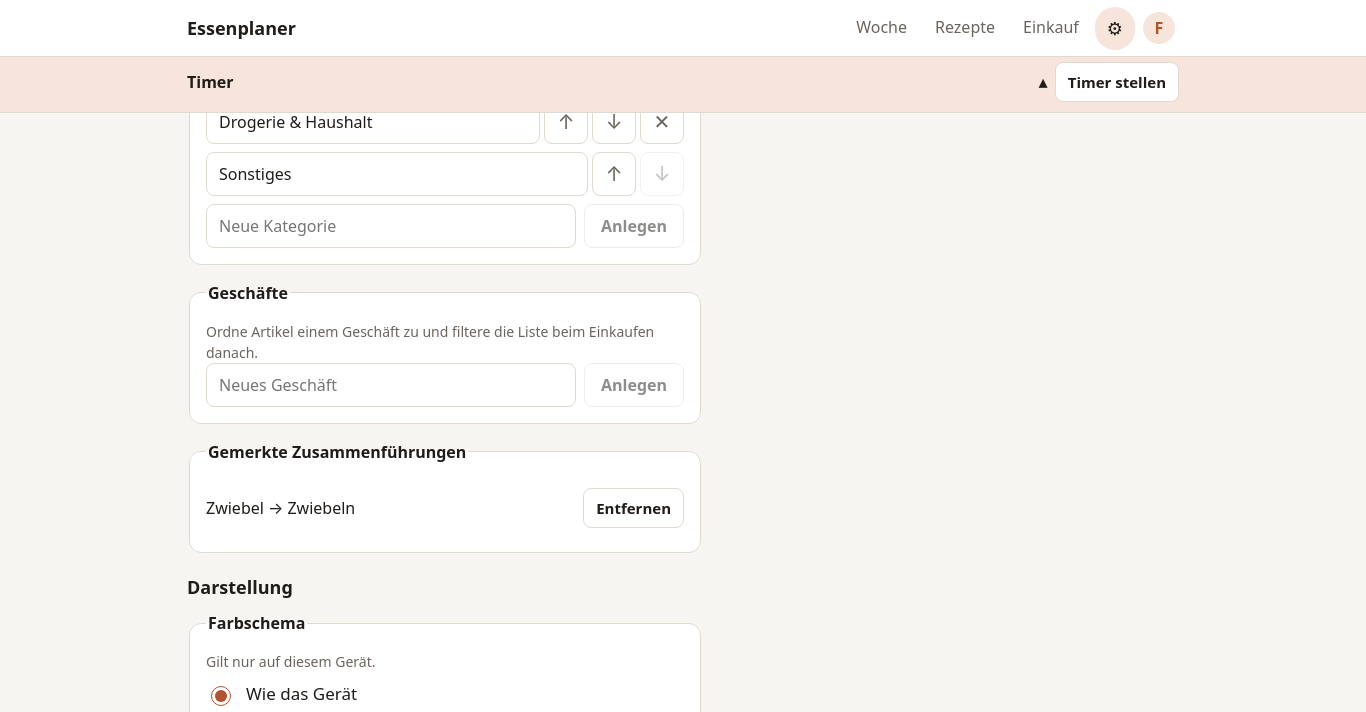
Test case: Einstellungen der Einkaufsliste › verwaltet Geschäfte und gemerkte Zusammenführungen
(page scrolled)
In the field labelled "Neues Geschäft": (391, 385) [206,363,576,407], type "Wochenmarkt"
Then press Enter
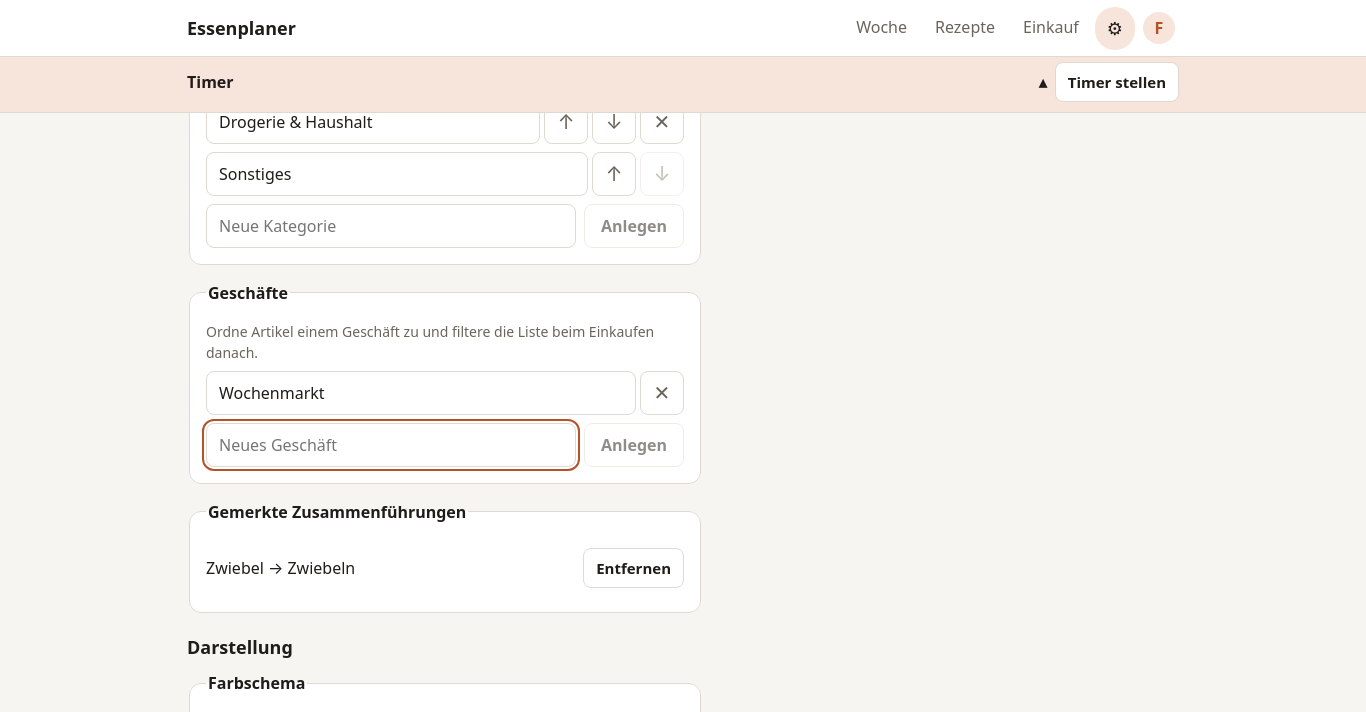
Result: the field named "Geschäft Wochenmarkt" is shown at [206,371,636,415]
Click the button named "Wochenmarkt löschen": (662, 393) [640,371,684,415]
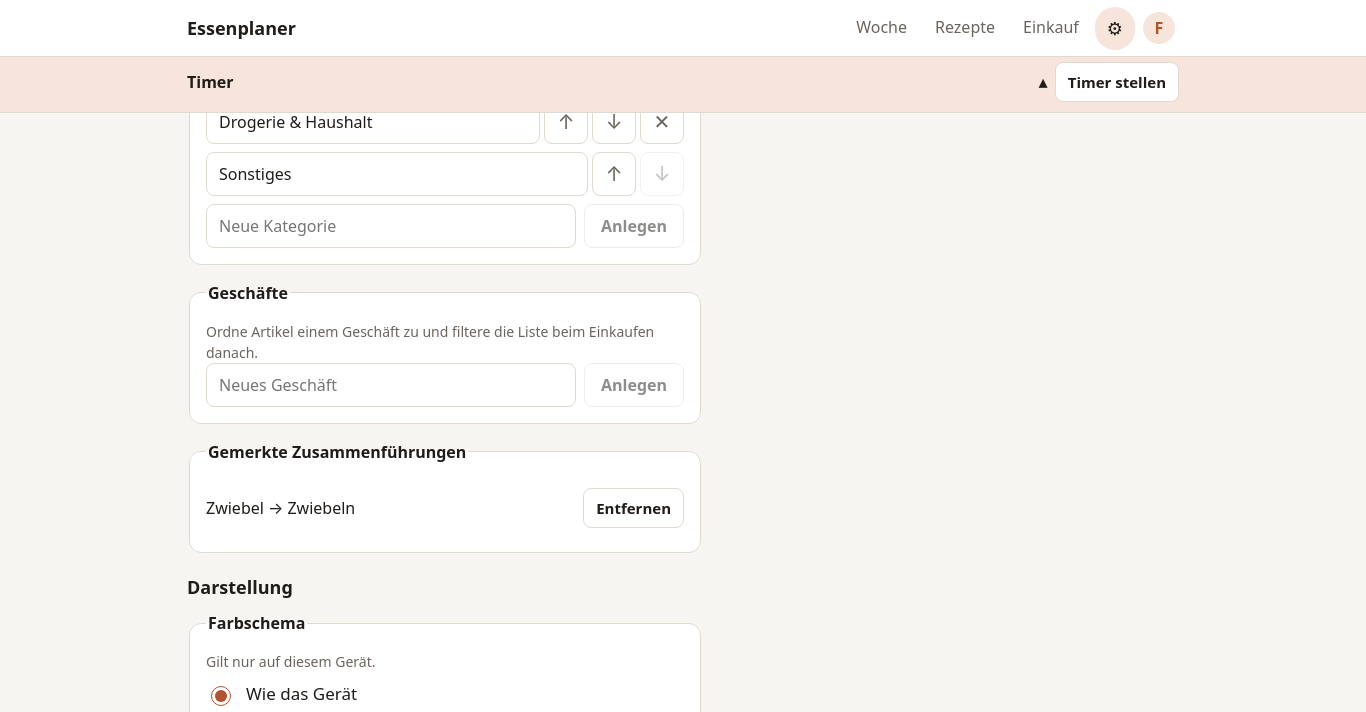
Expected: the text "Zwiebel → Zwiebeln" is shown, [206,497,355,519]
Click the button with aria-label "Zusammenführung Zwiebel entfernen": (634, 508) [583,488,684,528]
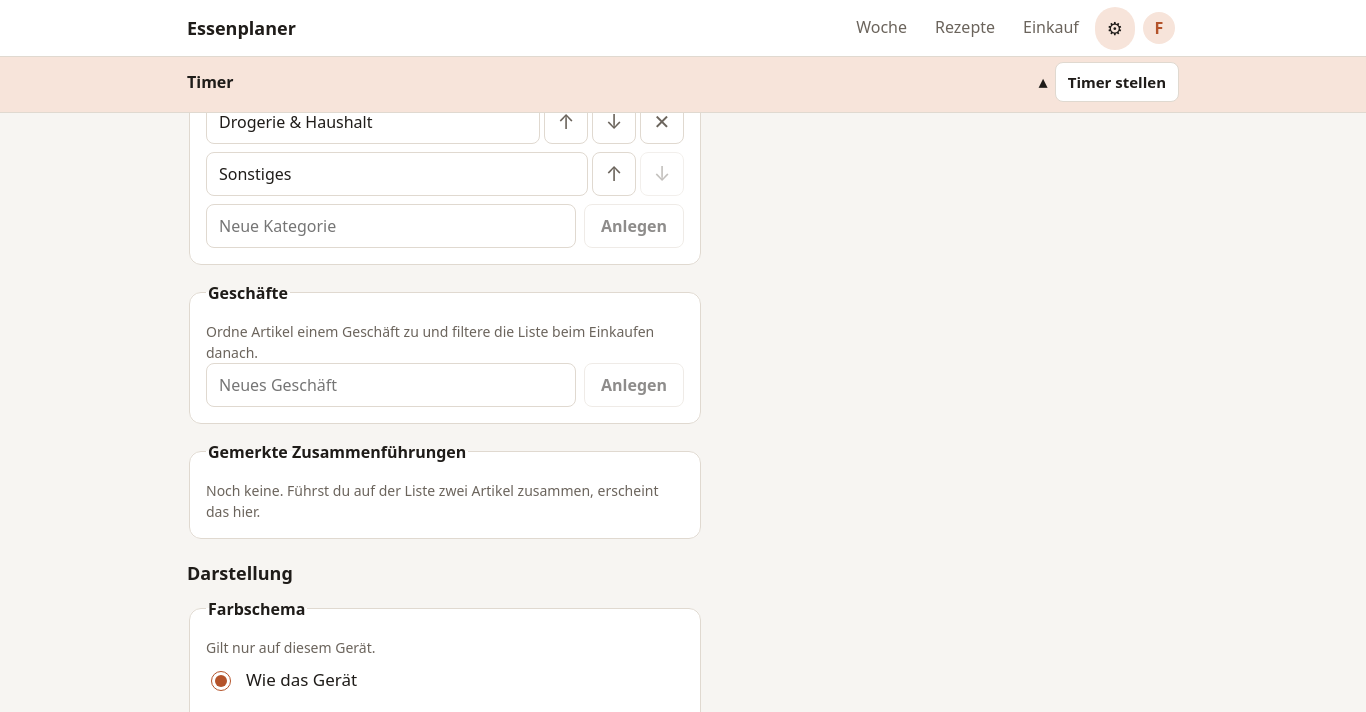
Result: the text "Noch keine" is shown at [206,481,658,521]
